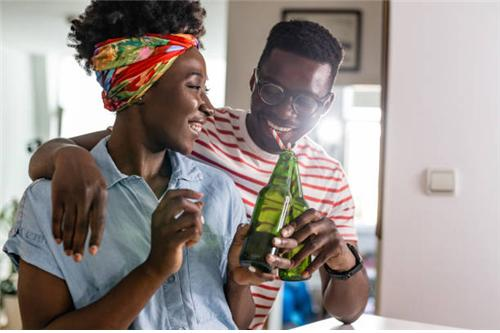alcohol: (238, 151, 296, 274), (277, 158, 314, 282)
